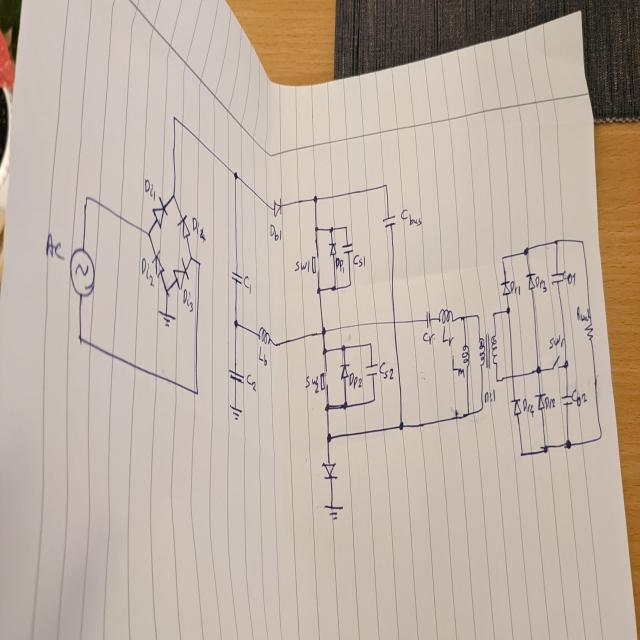capacitor: (228, 368, 244, 383), (382, 213, 396, 229), (230, 269, 242, 287), (365, 362, 378, 377), (551, 270, 564, 284), (561, 393, 573, 406), (342, 240, 353, 254), (425, 310, 431, 328)
crossover: (392, 318, 397, 326), (510, 372, 515, 379)
diode: (172, 256, 190, 291), (152, 197, 168, 229), (151, 248, 166, 279), (177, 212, 191, 241), (322, 460, 338, 481), (534, 391, 546, 411), (509, 396, 521, 416), (272, 196, 282, 218), (525, 272, 536, 290), (340, 362, 350, 380), (500, 280, 510, 296), (328, 242, 336, 256)
ground: (324, 504, 343, 522), (158, 310, 176, 328), (229, 404, 242, 422)
inductor: (258, 325, 273, 348), (438, 308, 454, 326), (461, 341, 470, 370)
junction: (562, 436, 576, 451), (541, 442, 549, 454), (78, 332, 84, 344), (597, 429, 603, 441), (398, 420, 404, 431), (535, 364, 541, 375), (83, 193, 89, 204), (563, 358, 569, 369), (523, 246, 529, 256), (342, 400, 348, 410), (322, 346, 328, 356), (324, 402, 330, 412), (146, 228, 152, 238), (171, 112, 177, 122), (326, 432, 332, 442), (233, 317, 238, 328), (312, 194, 318, 203), (340, 343, 346, 352), (505, 305, 511, 314), (188, 254, 194, 263), (233, 170, 238, 180), (171, 192, 176, 202), (316, 284, 321, 294), (321, 326, 326, 336), (194, 387, 199, 397), (383, 180, 388, 190), (164, 286, 169, 296), (328, 224, 333, 233), (554, 237, 559, 246), (460, 313, 465, 322), (331, 283, 336, 292), (343, 223, 348, 231), (475, 312, 480, 320), (479, 404, 484, 412), (348, 279, 352, 288), (368, 339, 372, 348), (314, 224, 318, 232), (520, 449, 524, 457), (372, 395, 376, 403), (500, 255, 504, 263), (466, 409, 470, 417), (197, 259, 201, 266), (491, 310, 495, 317), (580, 238, 584, 245), (495, 376, 499, 383)
resistor: (583, 318, 594, 342)
source: (68, 244, 95, 299)
switch: (311, 252, 322, 278), (320, 368, 328, 392), (550, 354, 561, 371)
text: (44, 230, 64, 261), (400, 206, 422, 228), (141, 255, 155, 288), (191, 215, 206, 242), (451, 354, 465, 379), (304, 373, 320, 394), (347, 370, 362, 390), (294, 256, 310, 274), (571, 388, 587, 406), (379, 362, 394, 381), (442, 324, 454, 346), (548, 334, 564, 350), (257, 344, 268, 367), (182, 288, 193, 311), (575, 304, 589, 322), (269, 222, 281, 242), (144, 178, 156, 198), (522, 396, 534, 416), (562, 269, 576, 286), (246, 372, 257, 393), (535, 275, 547, 293), (483, 389, 495, 405), (353, 252, 365, 268), (509, 280, 521, 296), (422, 330, 435, 344), (243, 273, 251, 294), (544, 395, 556, 409), (334, 255, 343, 272)
transformer: (478, 330, 497, 369)
